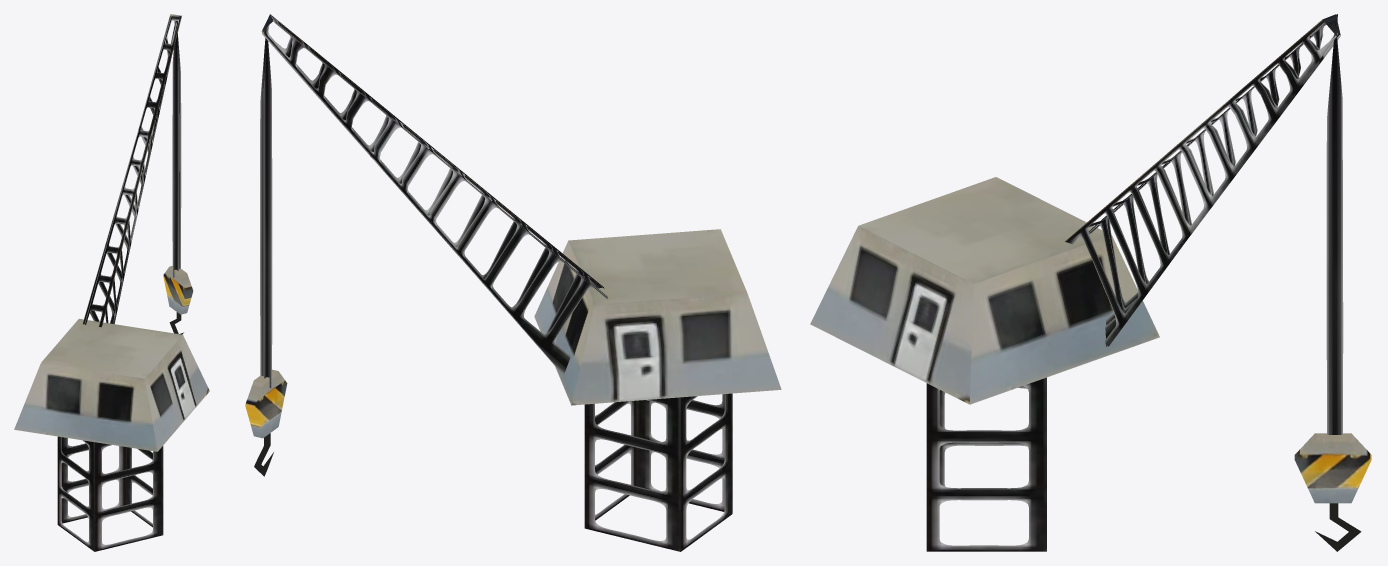
The model's file is crane_hdtex.glb.
The picture shows the model from 3 angles, left to right: view 1: azimuth 30°, elevation 25°; view 2: azimuth 150°, elevation 25°; view 3: azimuth 270°, elevation 25°; orthographic projection. The views are drawn at different scales.
Visible parts, largest first — view 1: Crane, LOS_CraneBoom_PAB; view 2: Crane, LOS_CraneBoom_PAB; view 3: Crane, LOS_CraneBoom_PAB.
Part boxes in pixels (x1,y1,x2,y2): Crane: [14, 319, 209, 551]; LOS_CraneBoom_PAB: [82, 14, 193, 334]; Crane: [534, 229, 781, 551]; LOS_CraneBoom_PAB: [245, 14, 607, 476]; Crane: [810, 177, 1159, 551]; LOS_CraneBoom_PAB: [1065, 14, 1371, 551].
Size of the model in its own units: 10.79 by 14.29 by 11.34.
1 material, 1 textured.
